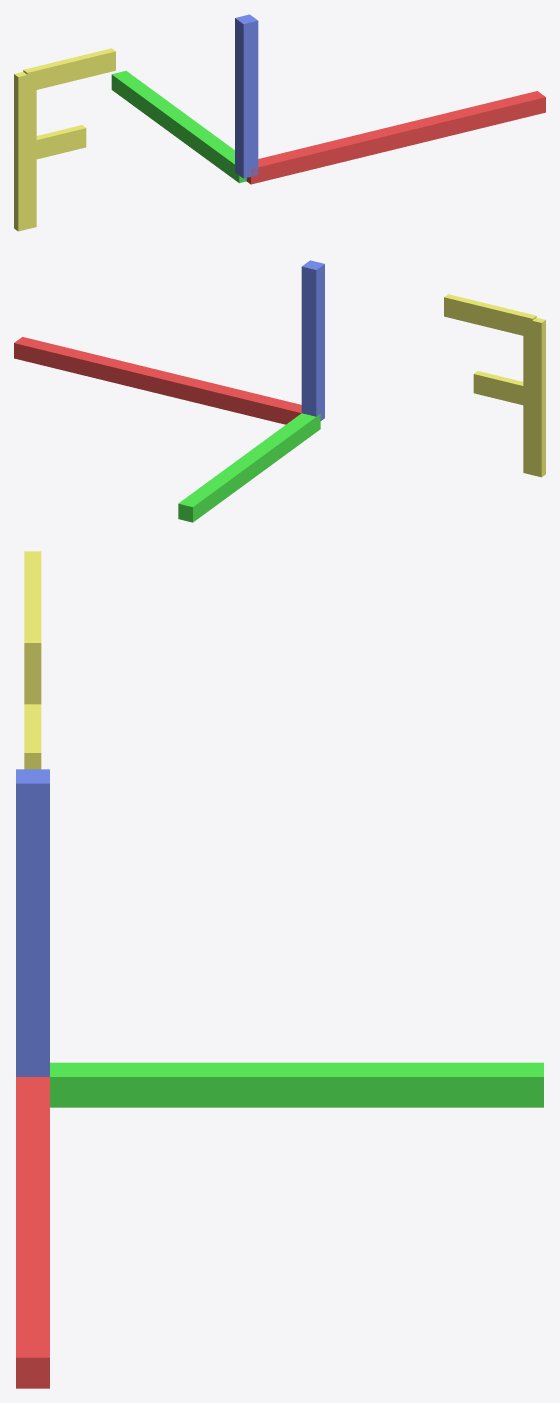
The model's file is axis_probe.glb.
3 views of the same model, one above another, from view 1: azimuth 30°, elevation 25°; view 2: azimuth 150°, elevation 25°; view 3: azimuth 270°, elevation 25° (orthographic). The views are drawn at different scales.
Visible parts, largest first — view 1: AXIS_X_pos_4m, AXIS_Z_pos_2m, AXIS_Y_pos_3m, F_stem, F_top_arm, F_mid_arm; view 2: AXIS_X_pos_4m, AXIS_Y_pos_3m, AXIS_Z_pos_2m, F_stem, F_top_arm, F_mid_arm; view 3: AXIS_Y_pos_3m, AXIS_X_pos_4m, AXIS_Z_pos_2m, F_top_arm, F_mid_arm.
Boxes of the visible parts, x1,y1,x2,y2 form: AXIS_X_pos_4m: [246, 91, 545, 184]; AXIS_Z_pos_2m: [235, 14, 258, 178]; AXIS_Y_pos_3m: [111, 71, 246, 183]; F_stem: [14, 72, 36, 231]; F_top_arm: [23, 48, 115, 92]; F_mid_arm: [27, 125, 86, 161]; AXIS_X_pos_4m: [14, 337, 301, 424]; AXIS_Y_pos_3m: [178, 413, 320, 522]; AXIS_Z_pos_2m: [301, 260, 324, 420]; F_stem: [523, 318, 545, 477]; F_top_arm: [444, 294, 536, 337]; F_mid_arm: [473, 371, 531, 406]; AXIS_Y_pos_3m: [50, 1062, 543, 1107]; AXIS_X_pos_4m: [16, 1077, 49, 1388]; AXIS_Z_pos_2m: [16, 769, 49, 1076]; F_top_arm: [24, 556, 41, 681]; F_mid_arm: [24, 704, 41, 769].
Bounding box in the file's own units: 7.12 × 2.12 × 3.1.
